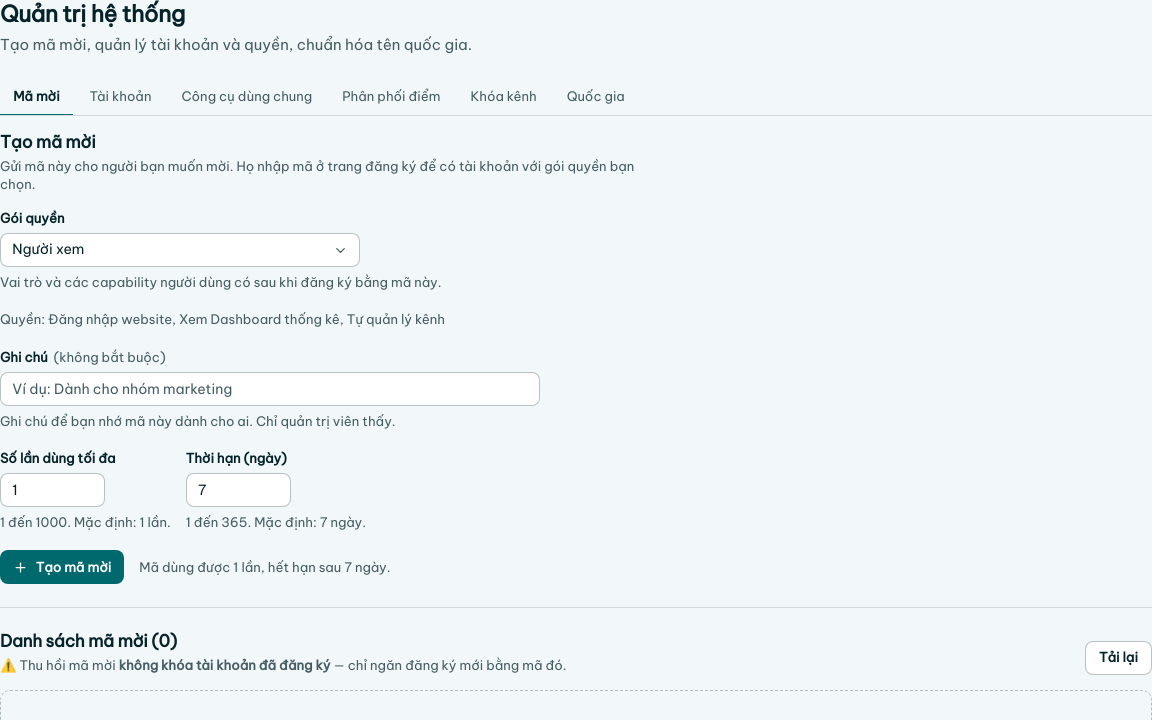
it: AdminPage — xác nhận trước khi khóa/xóa › xóa: nằm trong hộp Sửa (không sát nút an toàn), qua bước xác nhận mới gọi DELETE
This screenshot has width=1152, height=720.
Click the tab "Tài khoản" at {"x": 120, "y": 97}, box [76, 78, 164, 116]
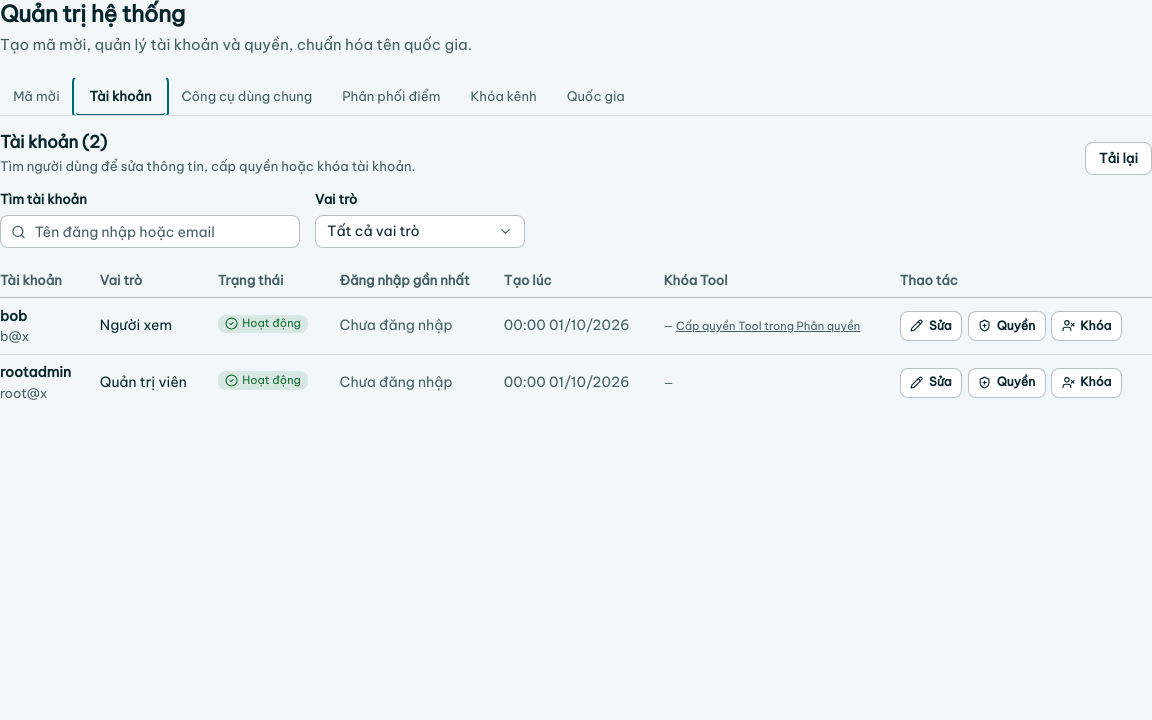
Check: the button "Xóa" is not shown
Check: the text "bob" is shown, box [0, 307, 27, 325]
Click the button with aria-label "Sửa bob" at {"x": 931, "y": 326}, box [900, 311, 962, 341]
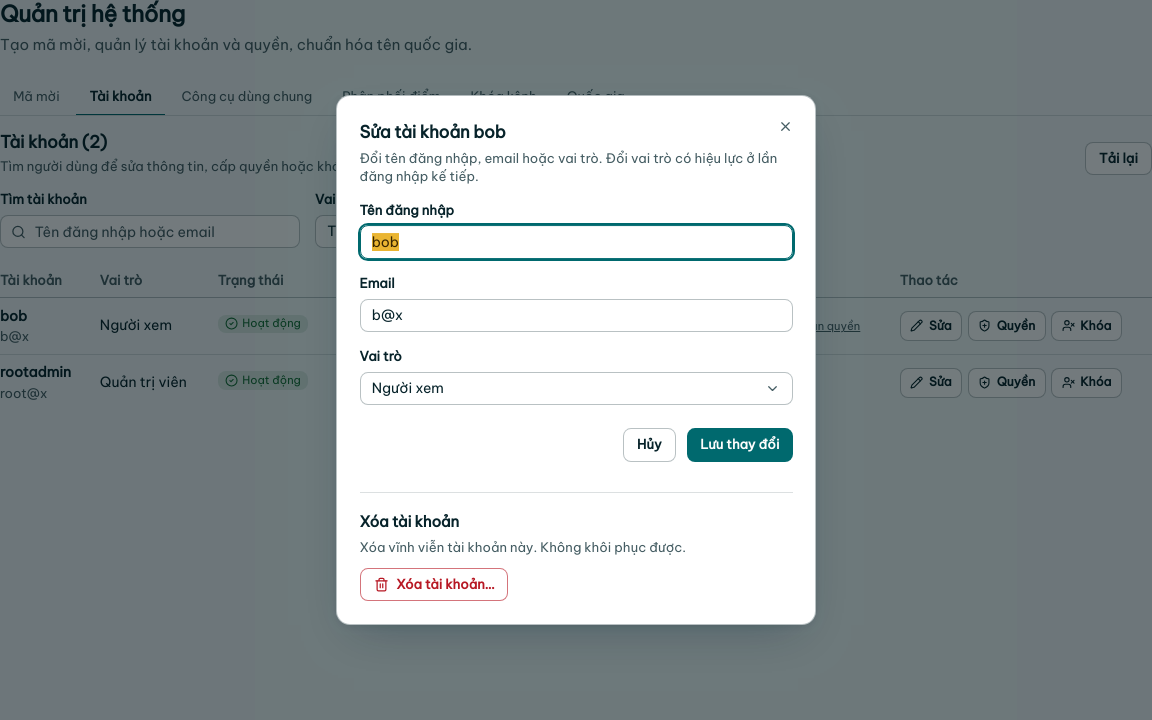
Click the button "Xóa tài khoản…" at {"x": 434, "y": 585}, box [360, 568, 508, 602]
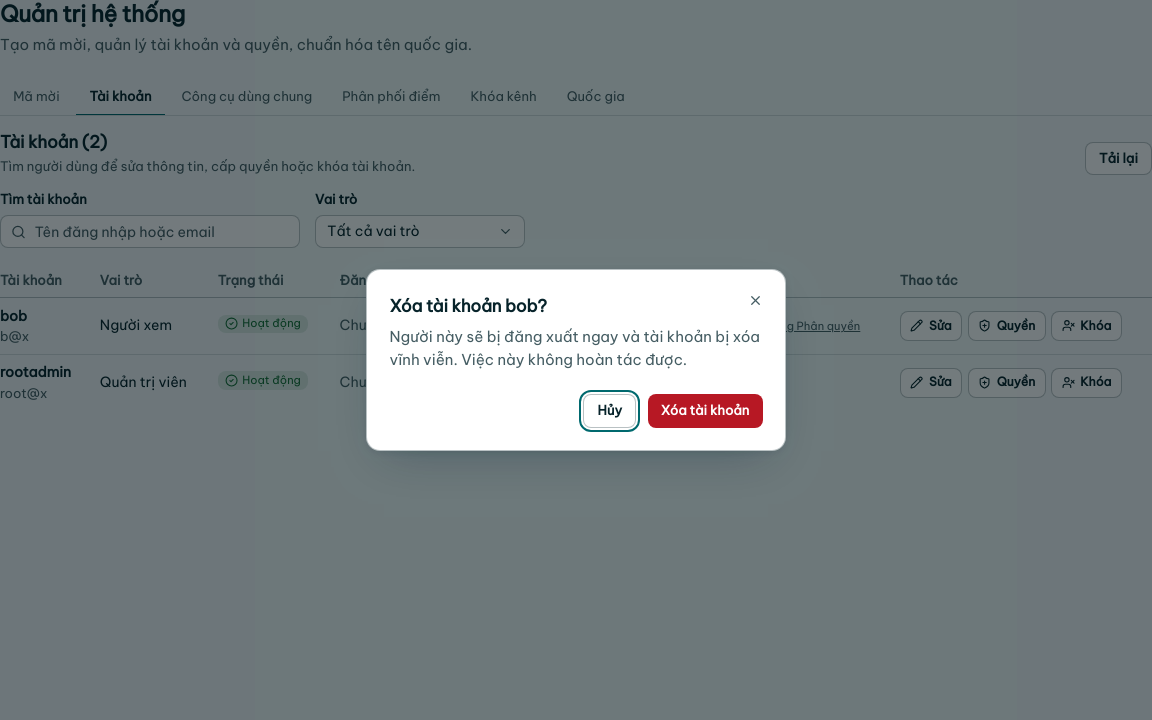
Check: the text "không hoàn tác được" is shown, box [390, 327, 760, 369]
Click the button "Xóa tài khoản" at {"x": 705, "y": 411}, box [648, 394, 762, 428]
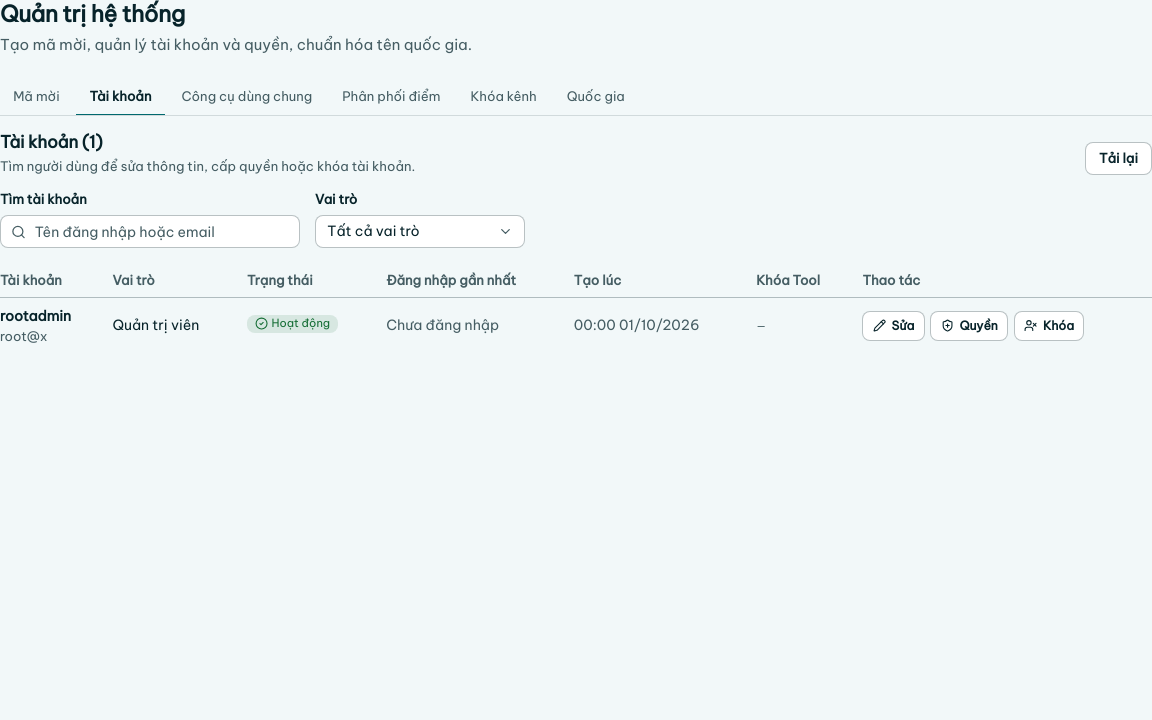
Check: the text "bob" is gone
